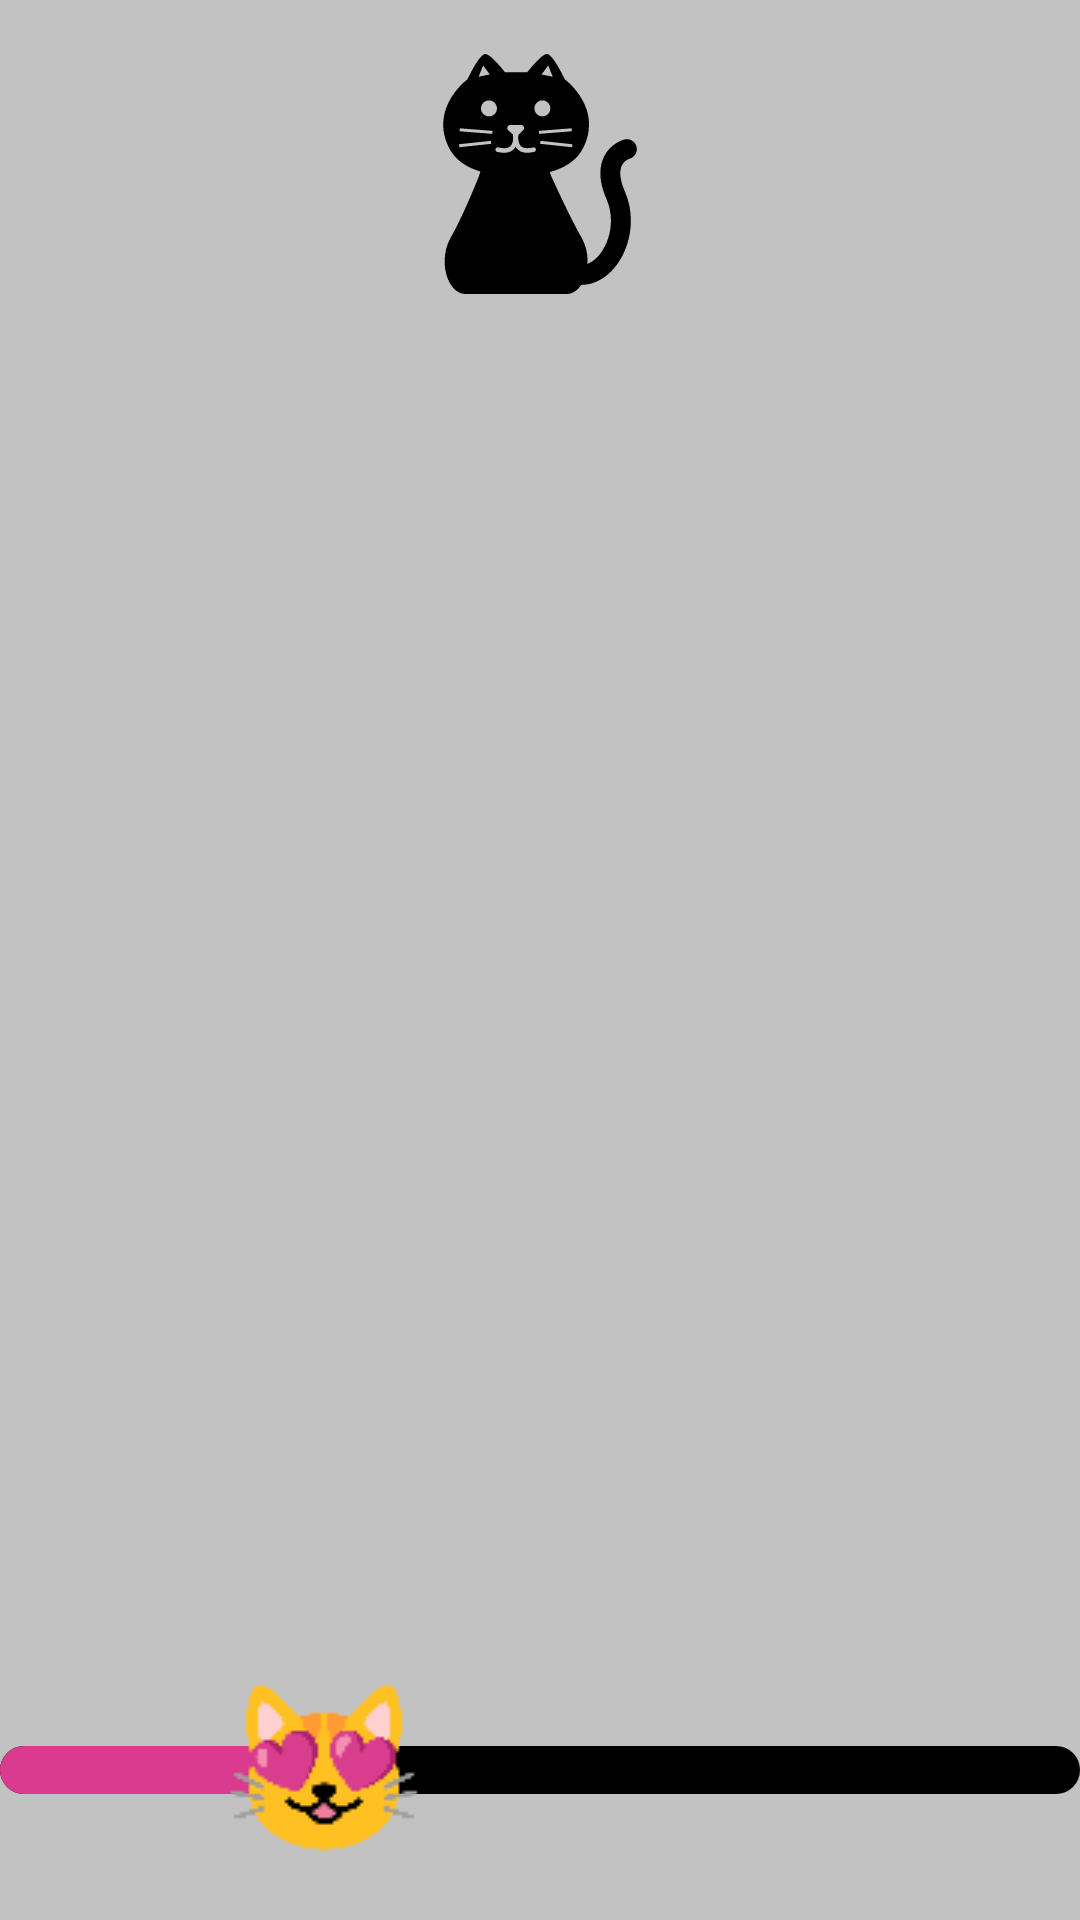

Locate icon controls on the screen. Image size 1080px×1920px, boxes as (x1, y1, x2, y2).
cat: (443, 54, 637, 294)
